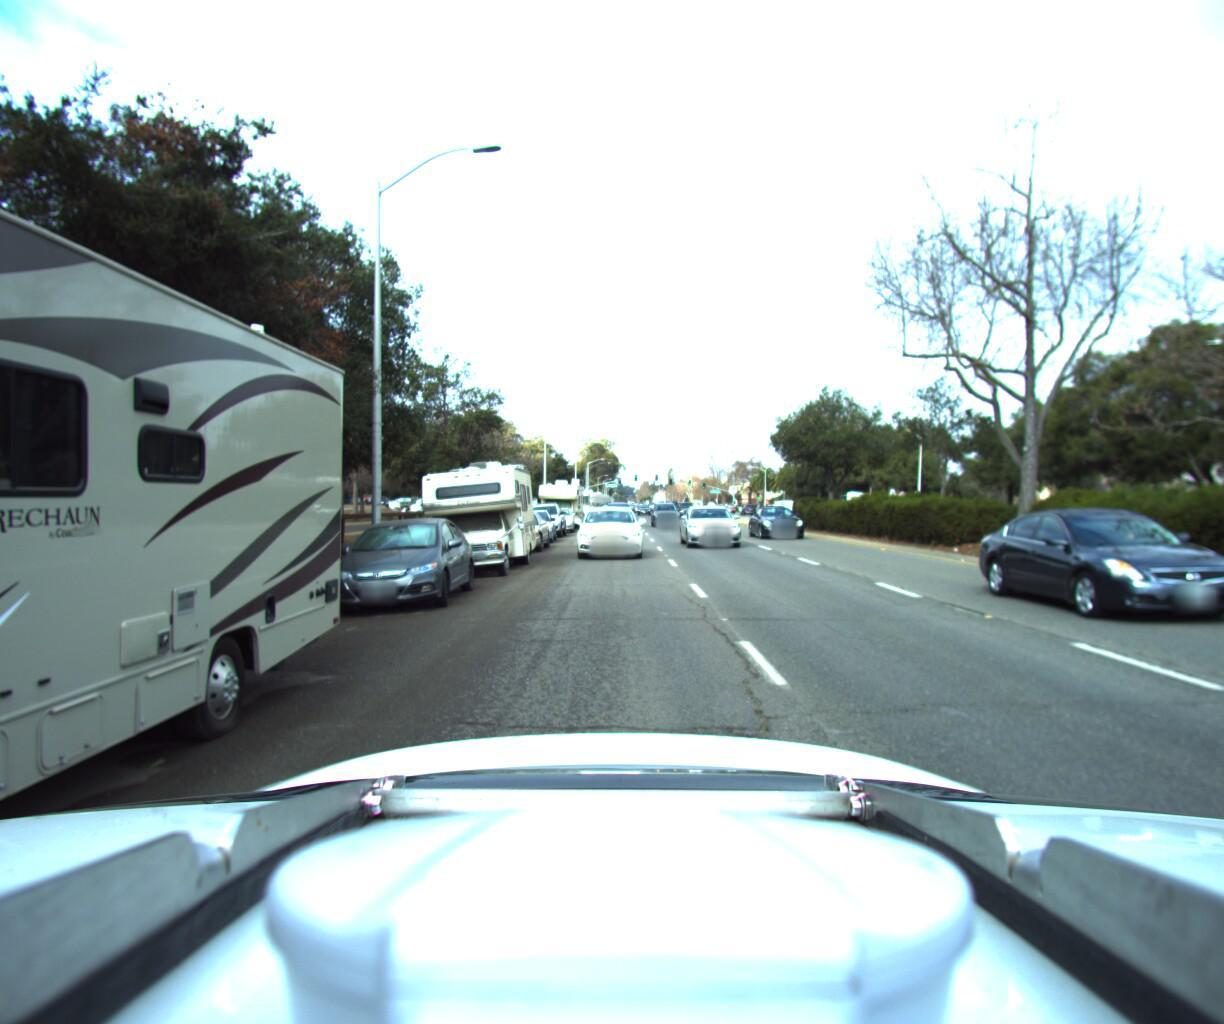car: (1002, 500, 1224, 645), (317, 507, 485, 616), (578, 494, 648, 557), (677, 498, 751, 548), (482, 502, 554, 551), (751, 498, 814, 538), (510, 502, 560, 542), (521, 494, 569, 533), (540, 499, 576, 530), (647, 496, 682, 523)
other_vehicle: (0, 0, 375, 1024), (408, 443, 543, 580), (531, 473, 587, 524), (380, 487, 440, 530), (556, 476, 591, 520)
